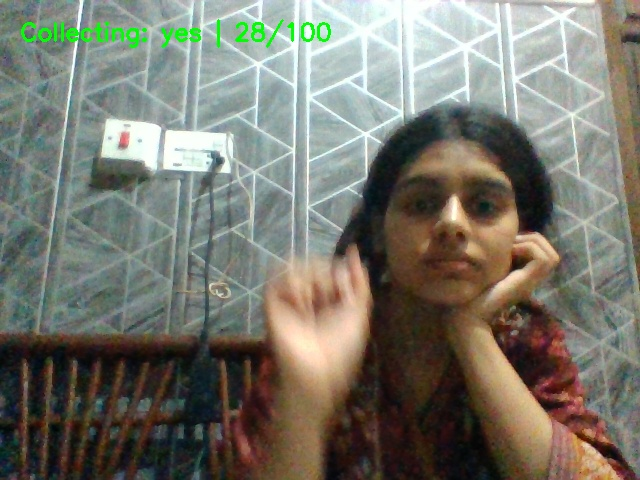thanks: (252, 243, 401, 423)
